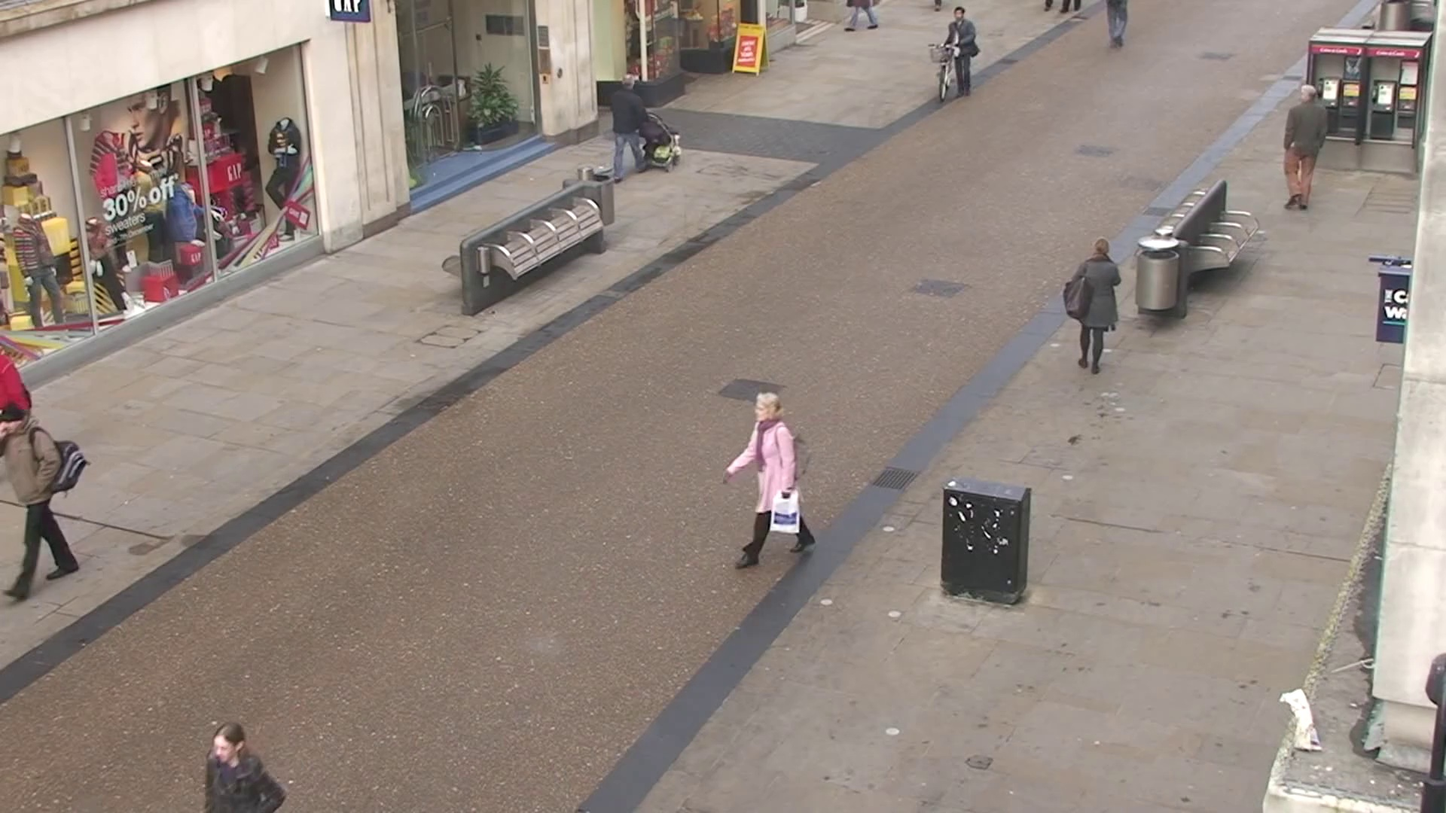person: (724, 391, 812, 568), (1, 422, 86, 601), (1063, 237, 1122, 373), (205, 722, 288, 813), (1283, 81, 1328, 213), (604, 74, 651, 183), (265, 117, 307, 237), (940, 5, 981, 95), (1106, 0, 1129, 50)
